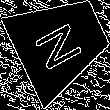N_NE: (31, 14, 91, 72)
